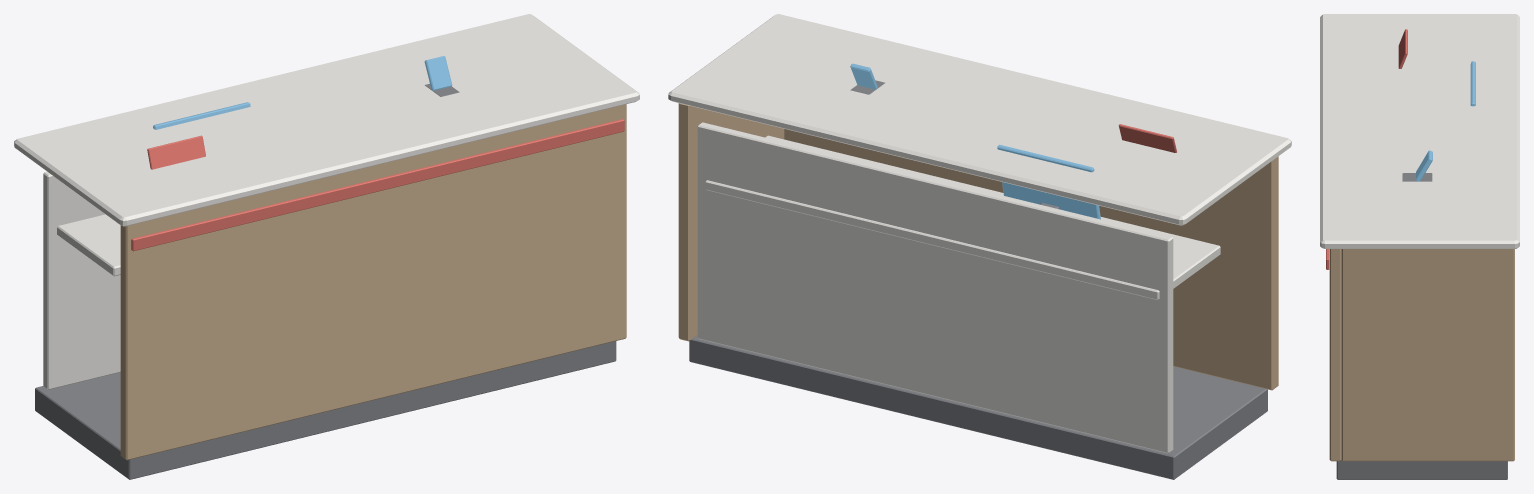
File: reception_desk.glb
The picture shows the model from 3 angles, left to right: view 1: azimuth 30°, elevation 25°; view 2: azimuth 150°, elevation 25°; view 3: azimuth 270°, elevation 25°; orthographic projection. The views are drawn at different scales.
Parts seen in each view (by area): view 1: reception-desk; view 2: reception-desk; view 3: reception-desk.
Part boxes in pixels (<box>): reception-desk: <box>14,14,639,479</box>; reception-desk: <box>668,14,1291,479</box>; reception-desk: <box>1320,14,1519,479</box>.
Bounding box in the file's own units: 2.28 × 1.25 × 0.8401.
